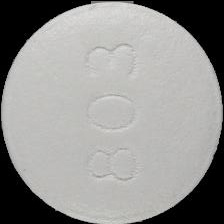51655-838: (0, 0, 224, 224)
